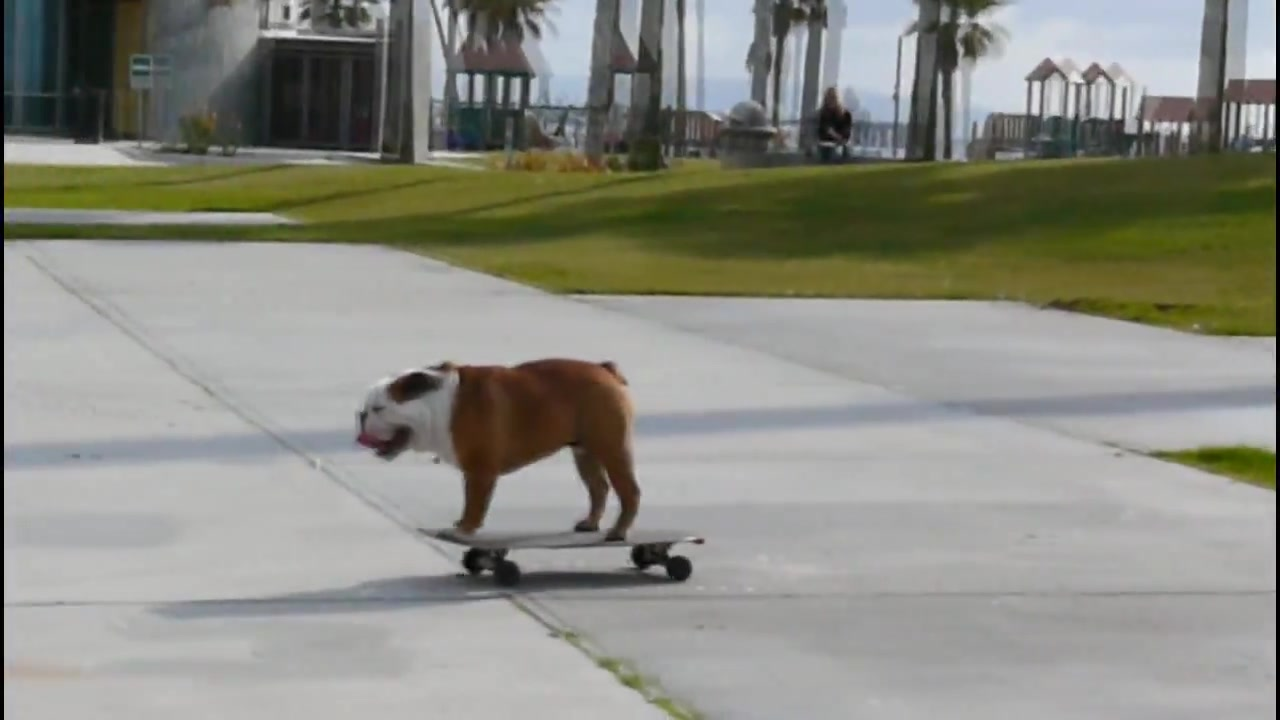dog: (356, 356, 646, 544)
